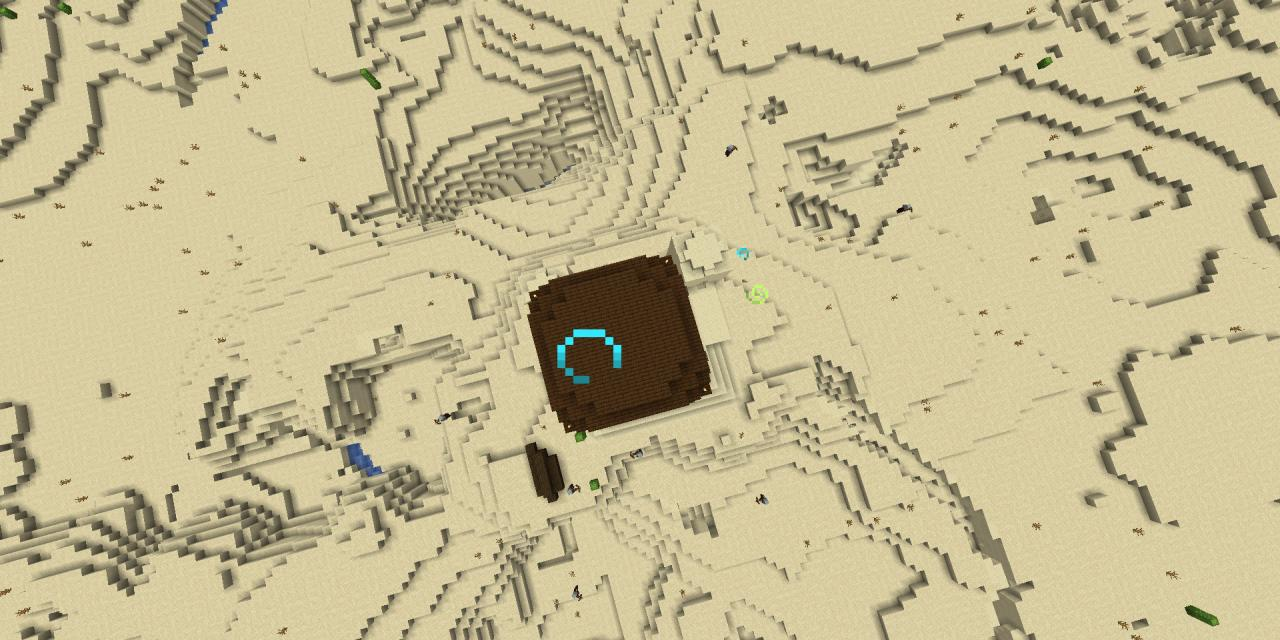desert temple: (653, 218, 767, 426)
pillager outpost: (522, 250, 726, 437)
